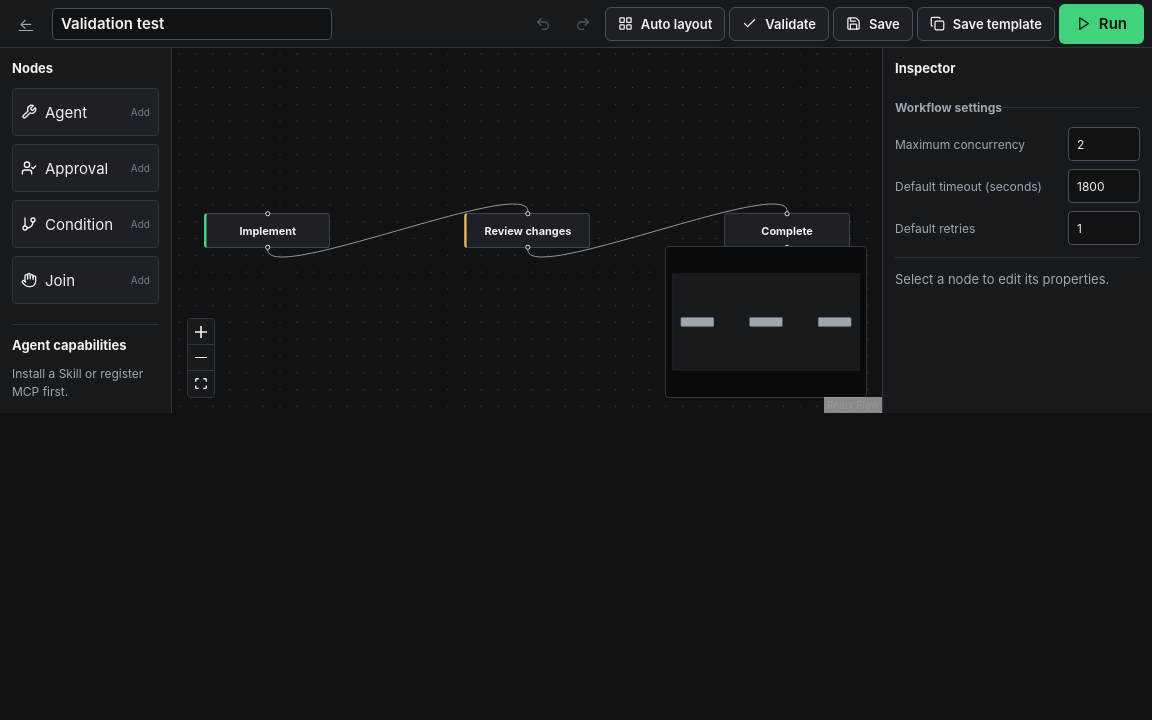
Test case: WorkflowEditorPage › shows backend validation failures from save
expect the field showing "Validation test" is shown: met, box [52,8,332,40]
Click the button "Save" at (873, 24), box [833,6,913,40]
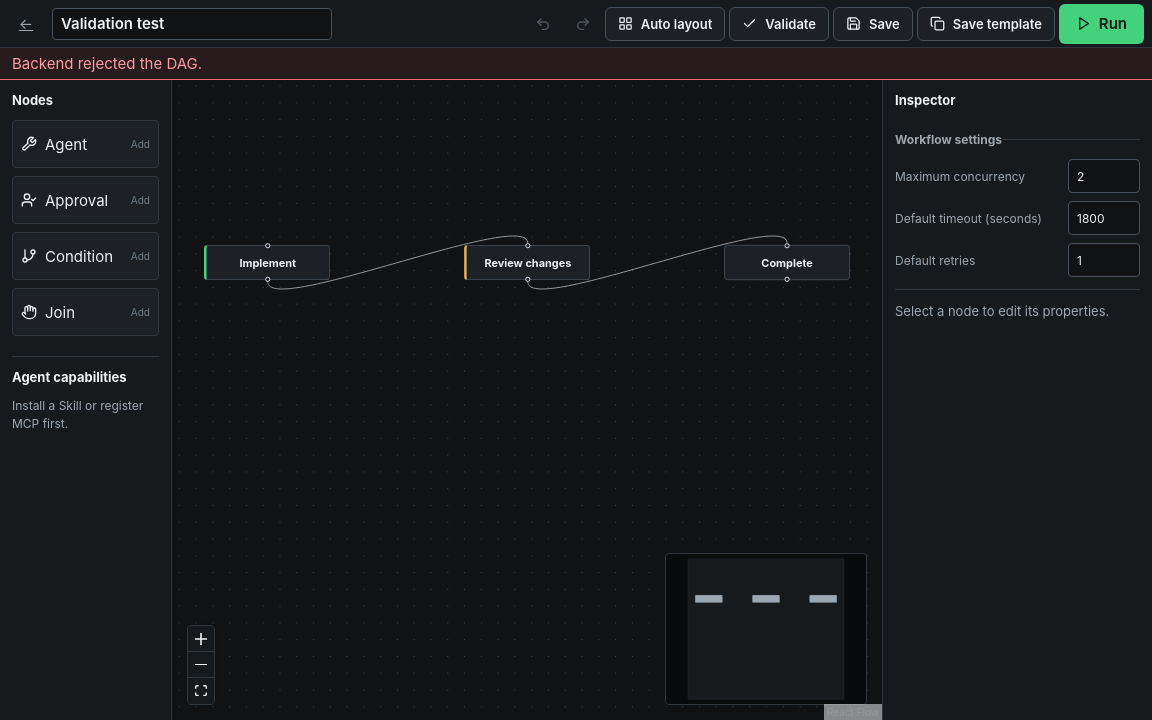
expect the message reads "Backend rejected the DAG.": met, box [12,54,202,73]
